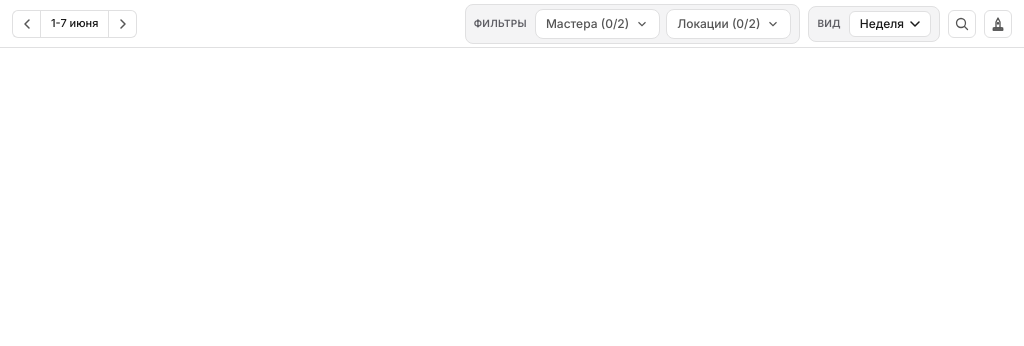
Topbar — Cell Height Zoom Control › closes popup on outside click
Click the button with test id "zoom-button". click: x=962, y=24
box: [948,10,976,38]
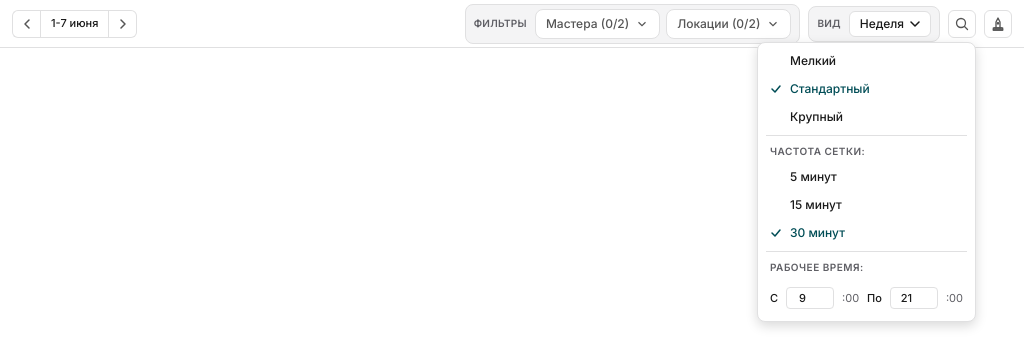
Check: the menu with test id "zoom-popup" is shown, box [757,42,976,322]
Press the mouse on the element that starts with "1-7 июня" at x=512, y=24, box [0,0,1023,48]
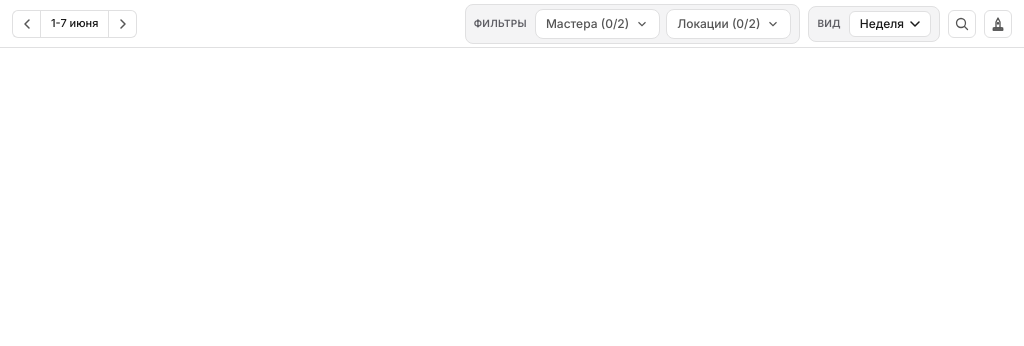
Check: the menu with test id "zoom-popup" is gone
